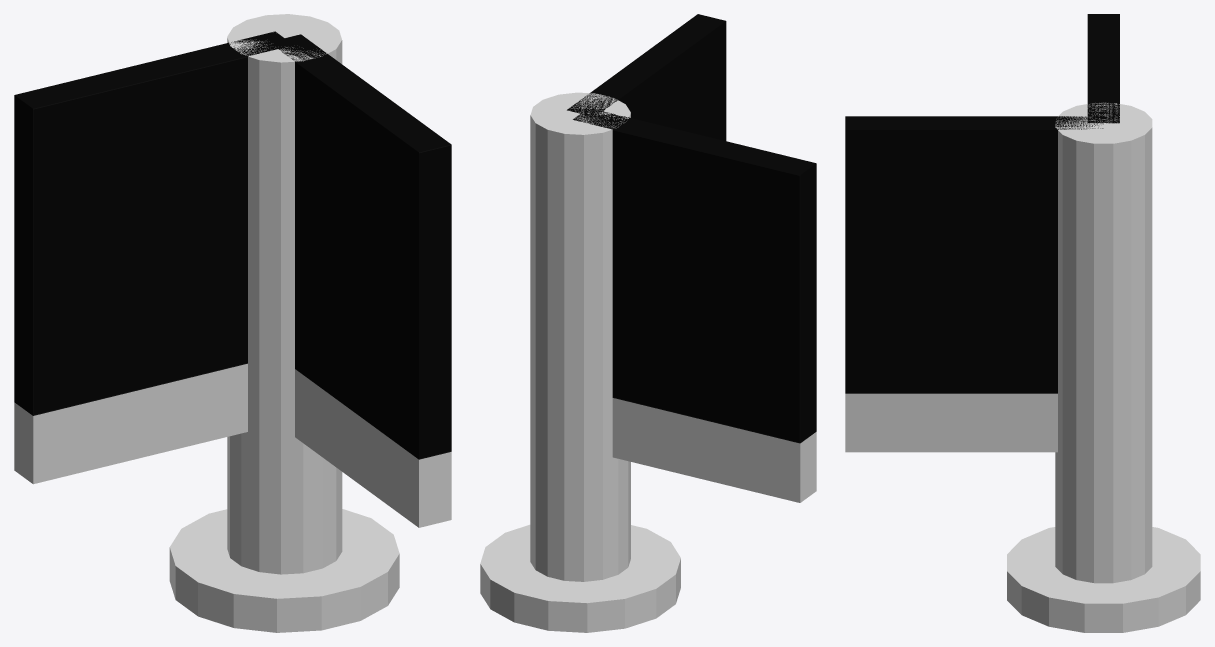
Rendered from dc_metrobus_wall_3b.obj.
The picture shows the model from 3 angles, left to right: view 1: azimuth 30°, elevation 25°; view 2: azimuth 150°, elevation 25°; view 3: azimuth 270°, elevation 25°; orthographic projection. The views are drawn at different scales.
Visible parts, largest first — view 1: cube, cylinder; view 2: cube, cylinder; view 3: cube, cylinder.
Part boxes in pixels (box(x1,y1,x2,y2)): cube: box(14, 31, 451, 527); cylinder: box(169, 14, 399, 632); cube: box(567, 14, 816, 502); cylinder: box(480, 92, 680, 632); cube: box(845, 14, 1119, 452); cylinder: box(1007, 102, 1200, 632).
Size of the model in its own units: 0.6875 by 1 by 0.6875.
Materials: 2 (2 with a texture image).
